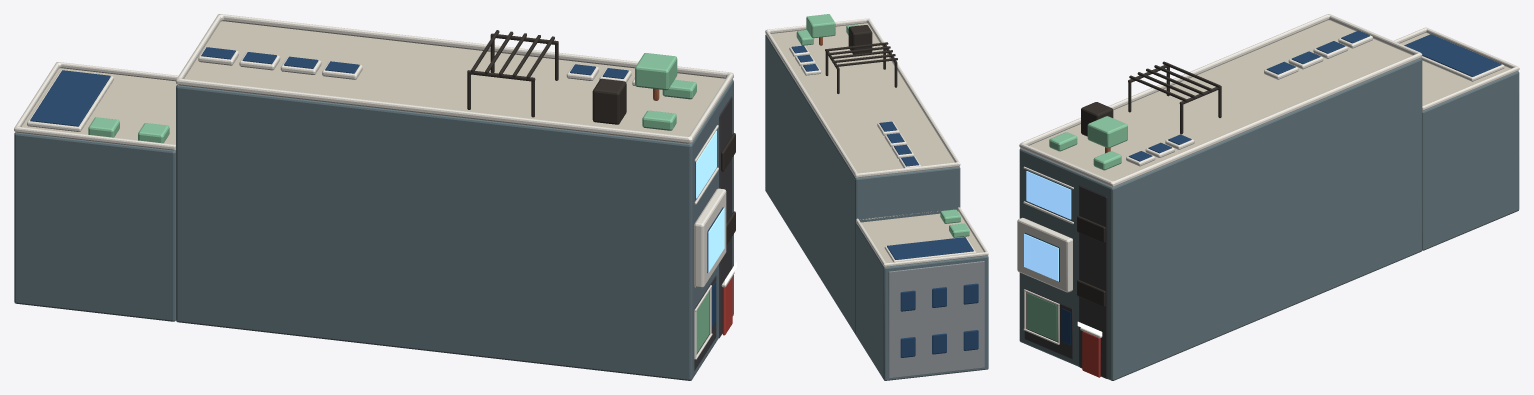
The model's file is mid.glb.
3 renders of one model, left to right at view 1: azimuth 30°, elevation 25°; view 2: azimuth 150°, elevation 25°; view 3: azimuth 270°, elevation 25°, orthographic. The views are drawn at different scales.
Parts seen in each view (by area): view 1: grp_Toy_slate_Toy_stone, grp_Toy_trim, grp_Toy_glass, grp_Toy_mint, grp_Toy_ink, grp_Toy_roofd, grp_Toy_glassl_Glow; view 2: grp_Toy_slate_Toy_stone, rear_face, grp_Toy_trim, grp_Toy_glass, grp_Toy_ink, grp_Toy_mint; view 3: grp_Toy_slate_Toy_stone, grp_Toy_trim, grp_Toy_roofd, grp_Toy_glass, grp_Toy_ink, grp_Toy_mint, grp_Toy_glassl_Glow, door.
Part boxes in pixels (x1,y1,x2,y2): grp_Toy_slate_Toy_stone: [14, 21, 733, 380]; grp_Toy_trim: [14, 14, 734, 359]; grp_Toy_glass: [30, 47, 723, 327]; grp_Toy_mint: [88, 53, 709, 353]; grp_Toy_ink: [467, 30, 735, 244]; grp_Toy_roofd: [694, 96, 732, 370]; grp_Toy_glassl_Glow: [696, 130, 724, 272]; grp_Toy_slate_Toy_stone: [765, 23, 988, 380]; rear_face: [888, 261, 984, 378]; grp_Toy_trim: [765, 18, 988, 267]; grp_Toy_glass: [791, 45, 978, 357]; grp_Toy_ink: [825, 25, 897, 93]; grp_Toy_mint: [796, 14, 969, 237]; grp_Toy_slate_Toy_stone: [1019, 20, 1519, 380]; grp_Toy_trim: [1017, 14, 1519, 344]; grp_Toy_roofd: [1024, 185, 1107, 378]; grp_Toy_glass: [1024, 30, 1501, 345]; grp_Toy_ink: [1077, 61, 1221, 307]; grp_Toy_mint: [1027, 116, 1127, 341]; grp_Toy_glassl_Glow: [1024, 171, 1071, 281]; door: [1082, 331, 1100, 377].
Bounding box in the file's own units: 26.09 × 13.2 × 26.29.
